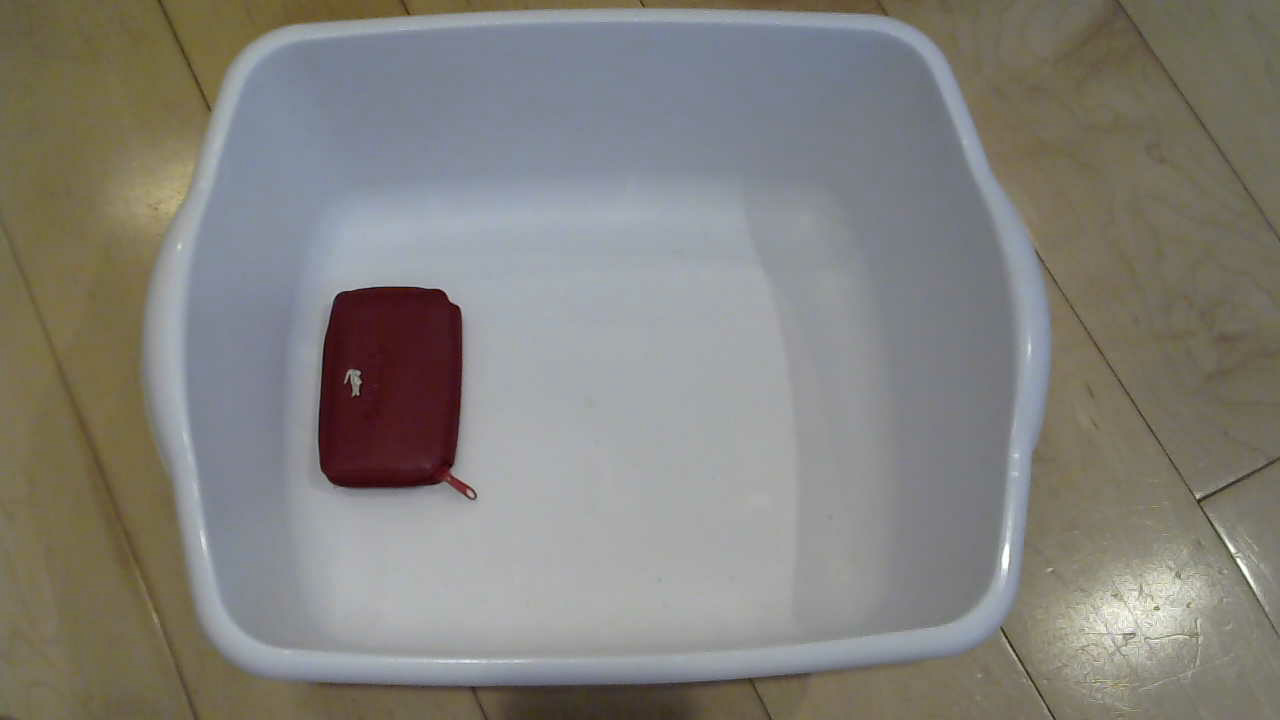wallet: (305, 289, 493, 502)
